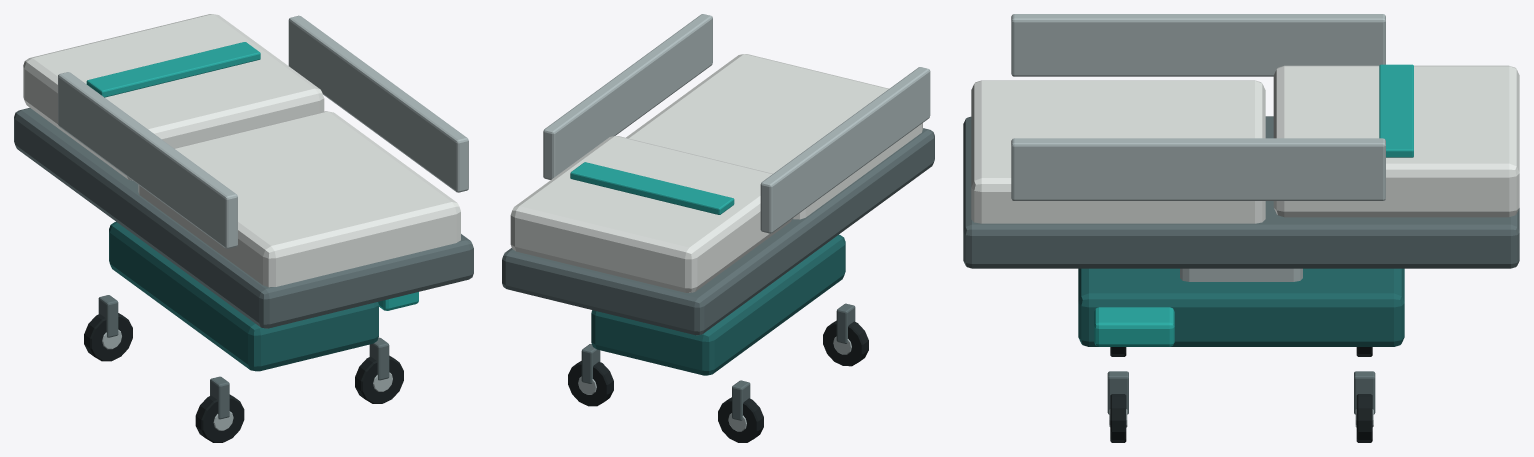
File: MH04_Adjustable_Treatment_Bed.glb
3 renders of one model, left to right at view 1: azimuth 30°, elevation 25°; view 2: azimuth 150°, elevation 25°; view 3: azimuth 270°, elevation 25°, orthographic. The views are drawn at different scales.
Parts seen in each view (by area): view 1: Mattress_Lower, Bed_Frame, Backrest_Cushion, Bed_Base, Side_Rail_-0.55, Side_Rail_0.55, Backrest_Teal_Band, Bed_Wheel_01_Tire, Bed_Wheel_02_Tire, Bed_Wheel_03_Tire, Bed_Fork_02, Bed_Fork_01 (+2 smaller); view 2: Backrest_Cushion, Bed_Frame, Mattress_Lower, Bed_Base, Side_Rail_-0.55, Side_Rail_0.55, Backrest_Teal_Band, Bed_Wheel_01_Tire, Bed_Wheel_04_Tire, Bed_Wheel_02_Tire, Bed_Fork_01, Bed_Fork_02 (+1 smaller); view 3: Bed_Frame, Backrest_Cushion, Mattress_Lower, Side_Rail_0.55, Side_Rail_-0.55, Bed_Base, Foot_Control, Backrest_Teal_Band, Lift_Column, Bed_Wheel_03_Tire, Bed_Wheel_04_Tire, Bed_Fork_03 (+1 smaller).
Part boxes in pixels (x1=…): Mattress_Lower: x1=138, y1=111, x2=460, y2=287; Bed_Frame: x1=14, y1=107, x2=473, y2=328; Backrest_Cushion: x1=23, y1=14, x2=324, y2=180; Bed_Base: x1=109, y1=222, x2=378, y2=371; Side_Rail_-0.55: x1=58, y1=72, x2=237, y2=248; Side_Rail_0.55: x1=288, y1=15, x2=468, y2=192; Backrest_Teal_Band: x1=86, y1=42, x2=260, y2=97; Bed_Wheel_01_Tire: x1=195, y1=394, x2=244, y2=442; Bed_Wheel_02_Tire: x1=84, y1=313, x2=132, y2=361; Bed_Wheel_03_Tire: x1=355, y1=355, x2=403, y2=403; Bed_Fork_02: x1=98, y1=295, x2=118, y2=337; Bed_Fork_01: x1=210, y1=376, x2=229, y2=419; Backrest_Cushion: x1=510, y1=136, x2=792, y2=292; Bed_Frame: x1=502, y1=128, x2=934, y2=335; Mattress_Lower: x1=626, y1=54, x2=922, y2=219; Bed_Base: x1=591, y1=234, x2=845, y2=375; Side_Rail_-0.55: x1=760, y1=67, x2=930, y2=233; Side_Rail_0.55: x1=543, y1=14, x2=712, y2=179; Backrest_Teal_Band: x1=570, y1=162, x2=734, y2=214; Bed_Wheel_01_Tire: x1=823, y1=320, x2=868, y2=366; Bed_Wheel_04_Tire: x1=568, y1=361, x2=613, y2=406; Bed_Wheel_02_Tire: x1=718, y1=397, x2=763, y2=442; Bed_Fork_01: x1=836, y1=303, x2=855, y2=343; Bed_Fork_02: x1=732, y1=380, x2=750, y2=420; Bed_Frame: x1=963, y1=116, x2=1519, y2=268; Backrest_Cushion: x1=1273, y1=65, x2=1519, y2=217; Mattress_Lower: x1=971, y1=80, x2=1265, y2=223; Side_Rail_0.55: x1=1011, y1=138, x2=1385, y2=200; Side_Rail_-0.55: x1=1011, y1=14, x2=1385, y2=76; Bed_Base: x1=1078, y1=268, x2=1404, y2=346; Foot_Control: x1=1094, y1=307, x2=1174, y2=346; Backrest_Teal_Band: x1=1379, y1=64, x2=1413, y2=157; Lift_Column: x1=1180, y1=268, x2=1302, y2=281; Bed_Wheel_03_Tire: x1=1110, y1=394, x2=1126, y2=442; Bed_Wheel_04_Tire: x1=1356, y1=394, x2=1372, y2=442; Bed_Fork_03: x1=1107, y1=371, x2=1128, y2=414.
Bounding box in the file's own units: 1.16 × 1.32 × 2.08.
